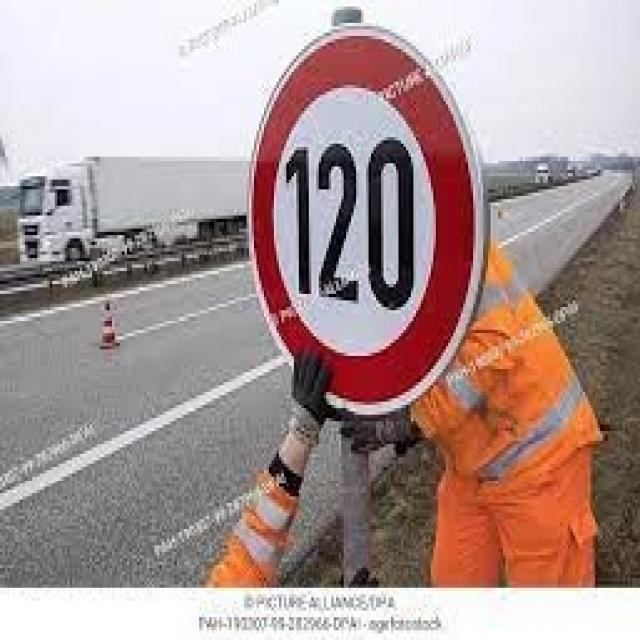speed_limit_120: (242, 22, 488, 426)
